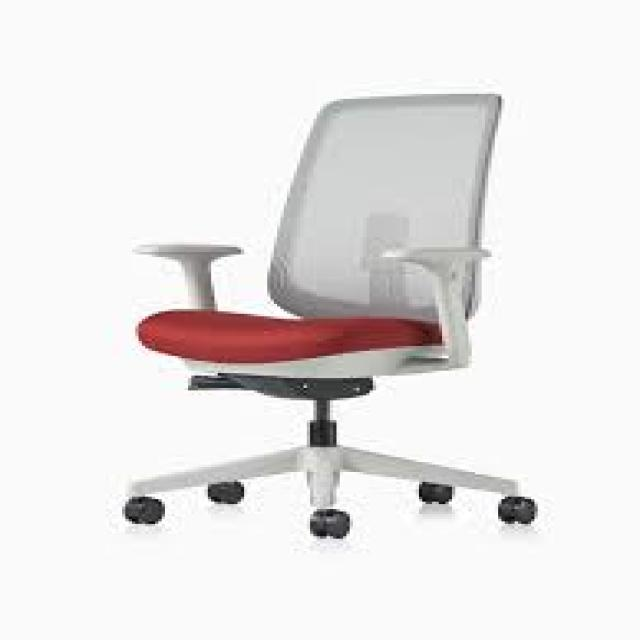chair: (82, 57, 548, 554)
